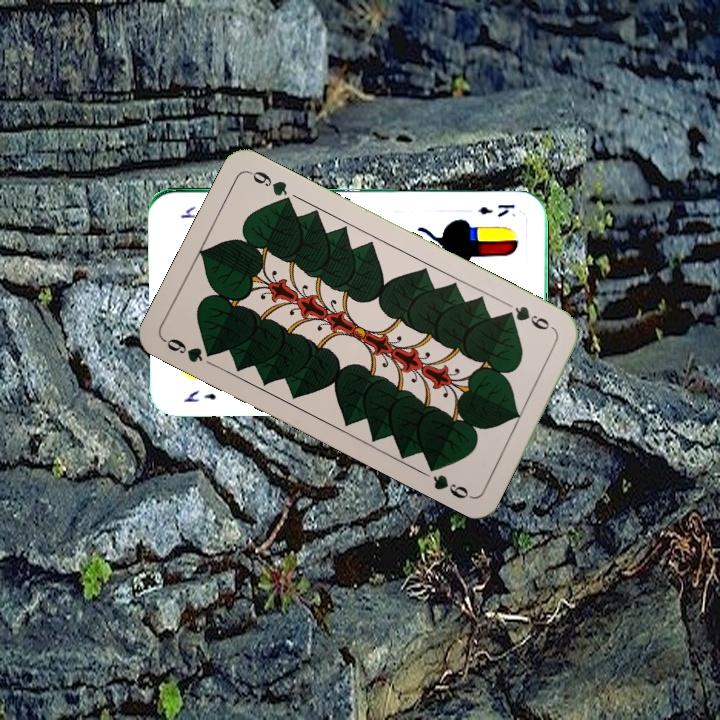EK: (475, 200, 518, 220), (179, 386, 218, 404)
G9: (160, 334, 220, 366), (500, 302, 559, 334)
